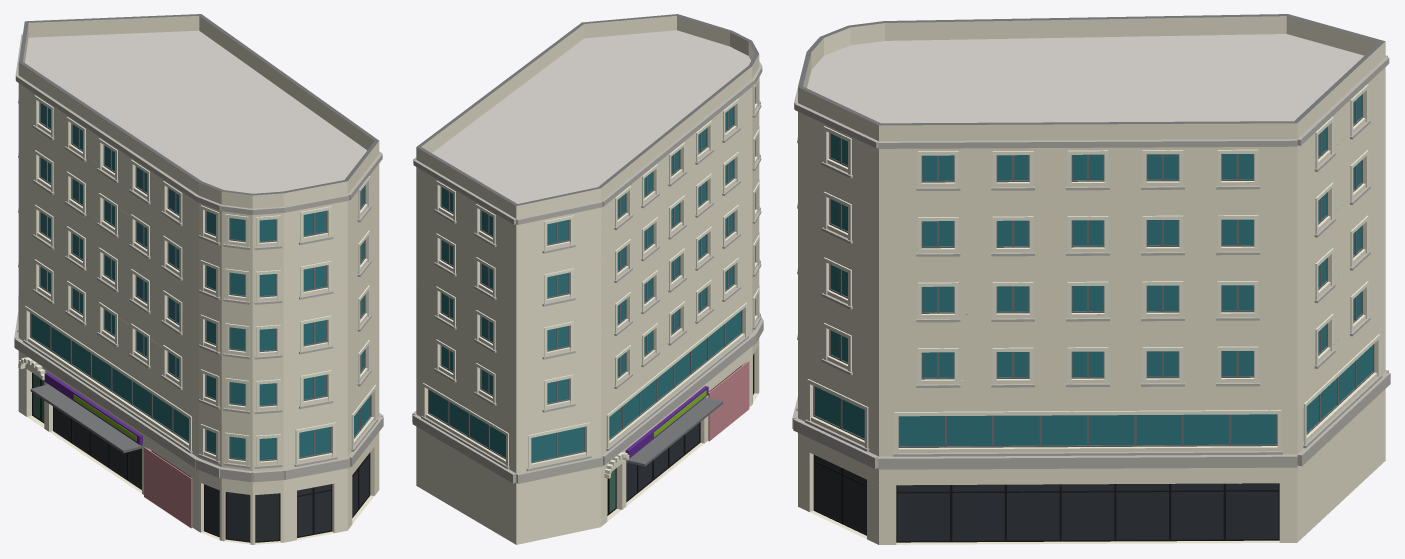
The model's file is woongam531.glb.
The picture shows the model from 3 angles, left to right: view 1: azimuth 30°, elevation 25°; view 2: azimuth 150°, elevation 25°; view 3: azimuth 270°, elevation 25°; orthographic projection. The views are drawn at different scales.
Parts seen in each view (by area): view 1: woongam531; view 2: woongam531; view 3: woongam531.
Part boxes in pixels (bbox=[...]): woongam531: bbox=[14, 14, 383, 544]; woongam531: bbox=[412, 14, 763, 544]; woongam531: bbox=[792, 14, 1390, 544].
Size of the model in its own units: 13.33 by 21.1 by 27.27.
